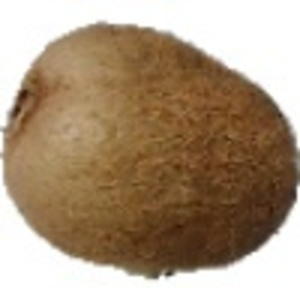kiwi: (1, 21, 300, 283)
